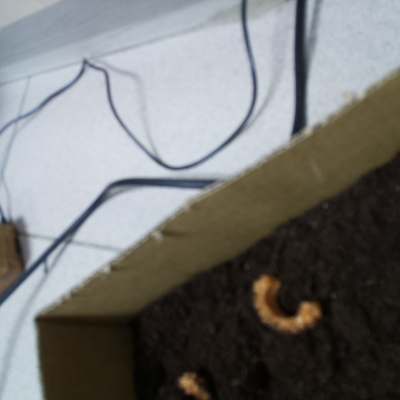eggs: (244, 267, 325, 340), (148, 370, 215, 400)
